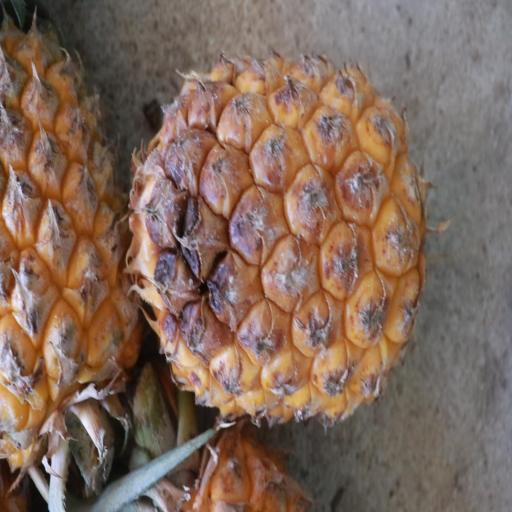Pineapple - v8 v1: (126, 52, 428, 426), (0, 4, 149, 512)
